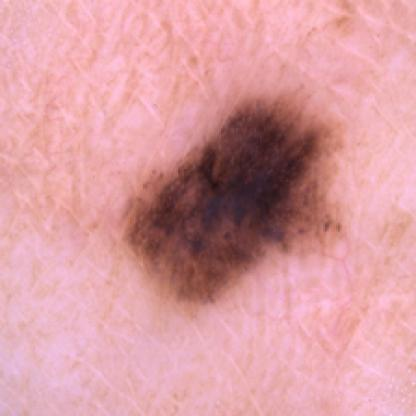benign: (119, 85, 351, 299)
